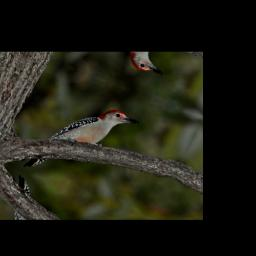Woodpecker: (23, 88, 143, 197)
